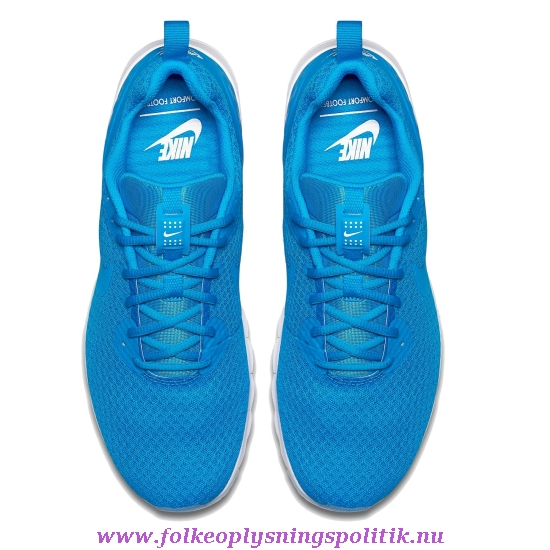nike: (141, 119, 208, 148), (325, 117, 383, 147)
